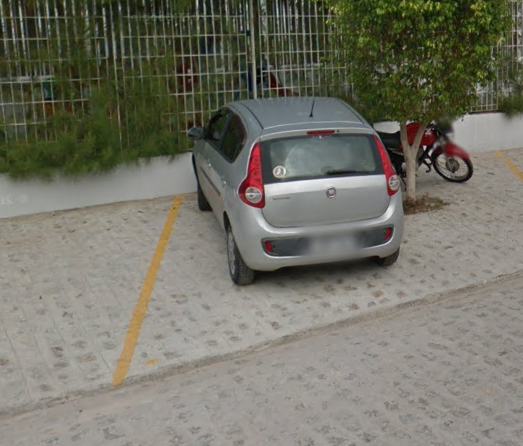car: (187, 89, 406, 288)
